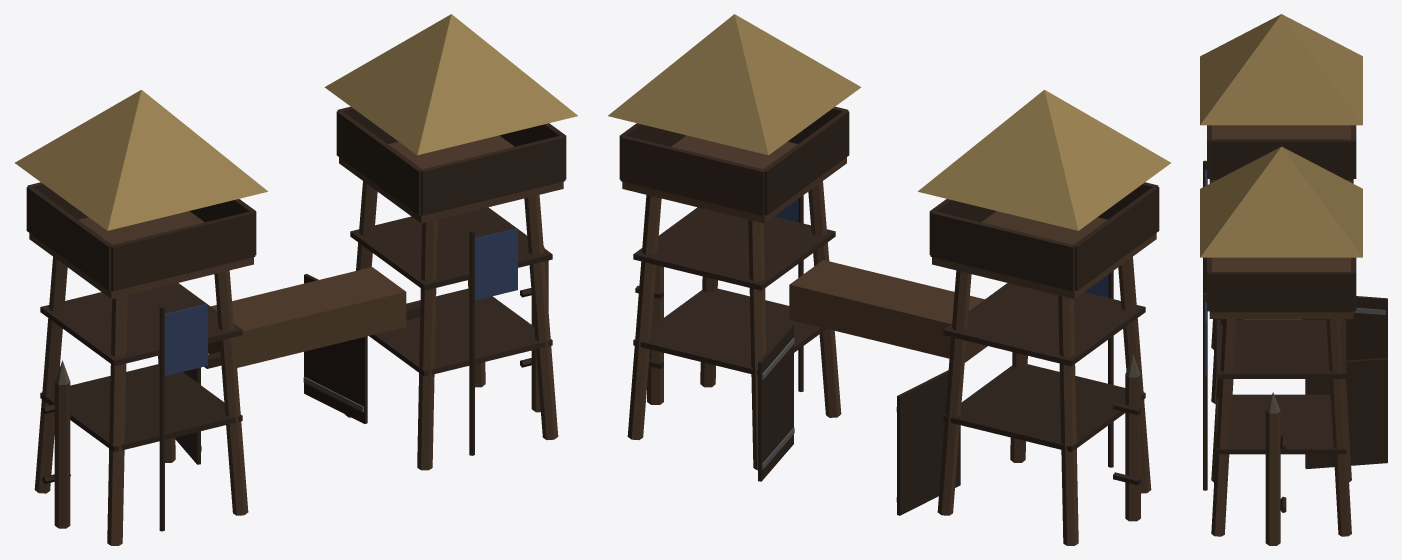
The model's file is walk_tidebound_gate.glb.
3 renders of one model, left to right at view 1: azimuth 30°, elevation 25°; view 2: azimuth 150°, elevation 25°; view 3: azimuth 270°, elevation 25°, orthographic. The views are drawn at different scales.
Parts seen in each view (by area): view 1: walk_tidebound_gate, walk_tidebound_gate_roof, walk_tidebound_gate_door1, walk_tidebound_gate_door0; view 2: walk_tidebound_gate, walk_tidebound_gate_roof, walk_tidebound_gate_door0, walk_tidebound_gate_door1; view 3: walk_tidebound_gate, walk_tidebound_gate_roof, walk_tidebound_gate_door1, walk_tidebound_gate_door0.
Boxes of the visible parts, x1=… form: walk_tidebound_gate: x1=26, y1=106, x2=566, y2=545; walk_tidebound_gate_roof: x1=15, y1=14, x2=577, y2=230; walk_tidebound_gate_door1: x1=303, y1=274, x2=367, y2=423; walk_tidebound_gate_door0: x1=175, y1=367, x2=201, y2=464; walk_tidebound_gate: x1=619, y1=106, x2=1159, y2=545; walk_tidebound_gate_roof: x1=608, y1=14, x2=1170, y2=230; walk_tidebound_gate_door0: x1=896, y1=370, x2=960, y2=515; walk_tidebound_gate_door1: x1=758, y1=325, x2=794, y2=481; walk_tidebound_gate: x1=1203, y1=125, x2=1356, y2=545; walk_tidebound_gate_roof: x1=1200, y1=14, x2=1362, y2=257; walk_tidebound_gate_door1: x1=1305, y1=357, x2=1387, y2=469; walk_tidebound_gate_door0: x1=1305, y1=296, x2=1387, y2=360.
Size of what is drawn, in the model's own units: 12 by 9.41 by 4.43.
Materials: 2 (2 with a texture image).
